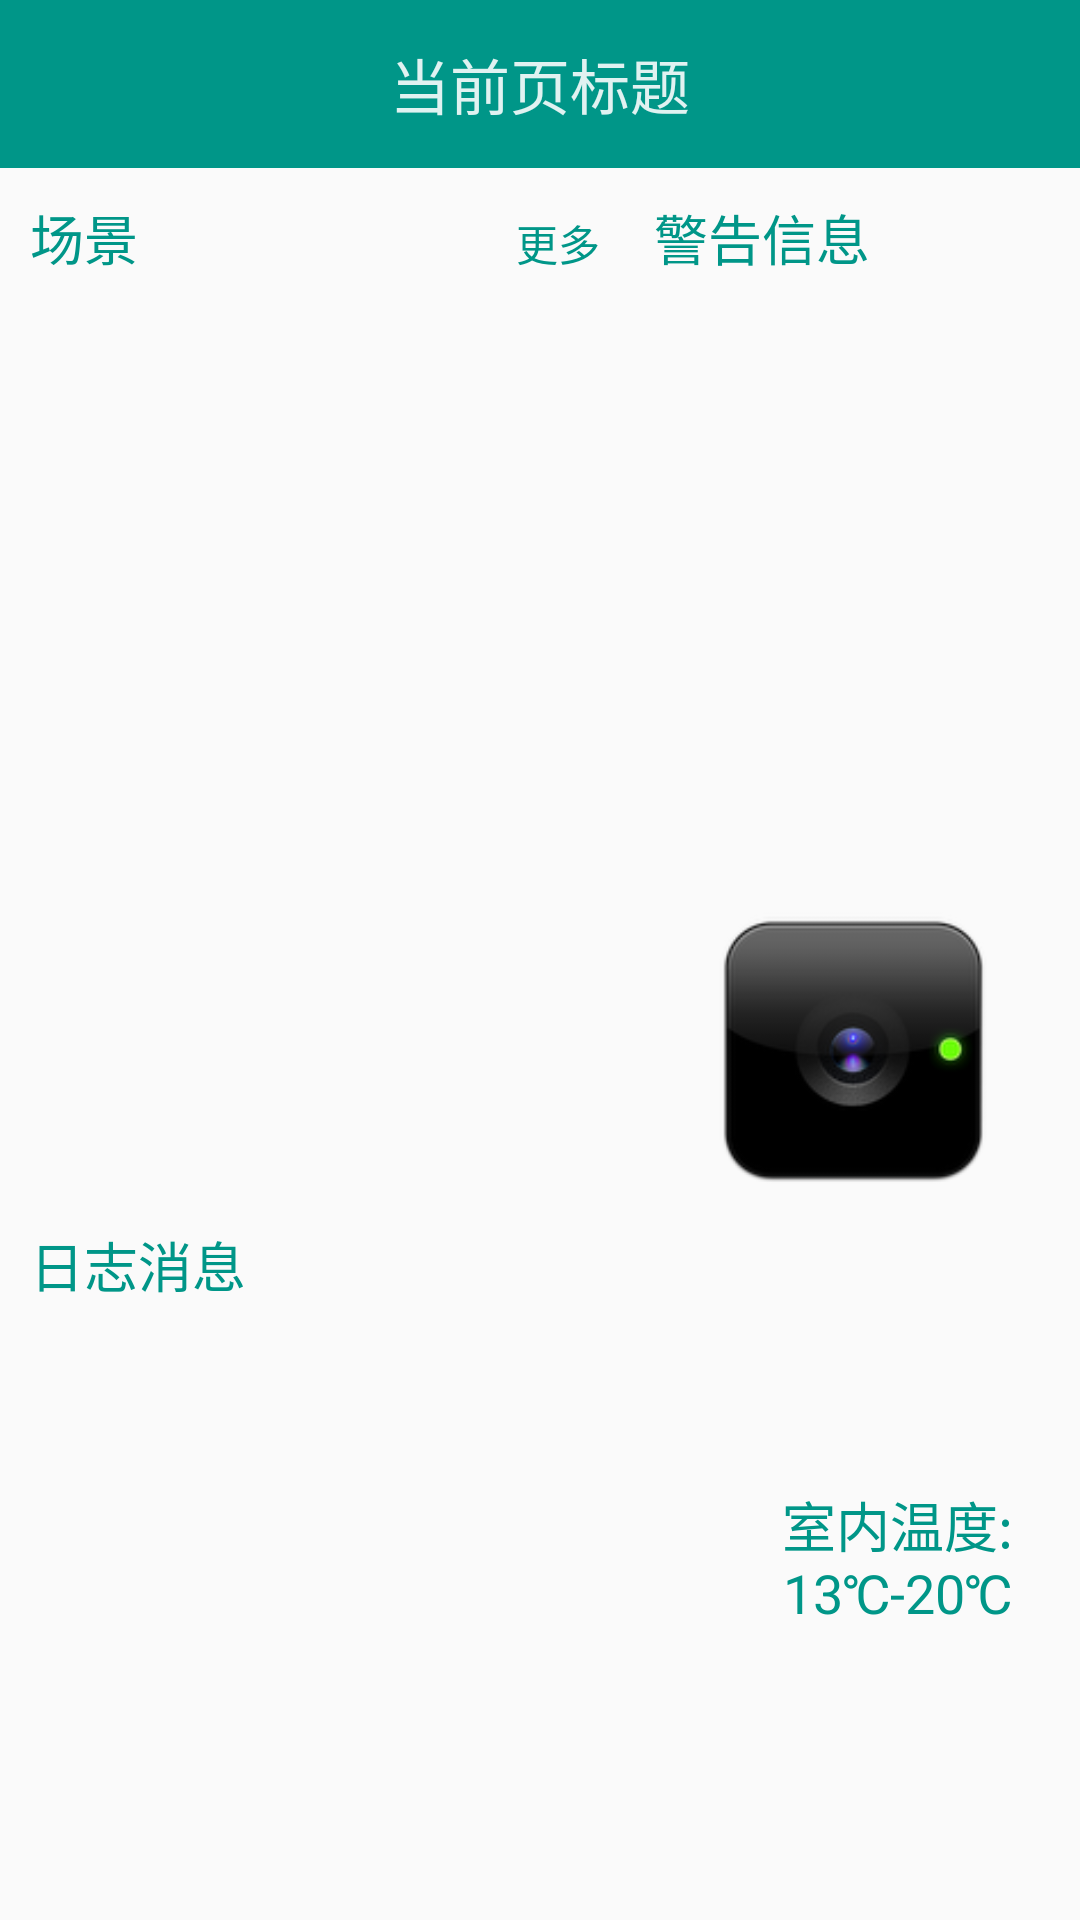

Screen size 1080px x 1920px. Icon name, then its box in pixels as (x1, y1, x2, y2):
cam monitor: (724, 921, 983, 1181)
